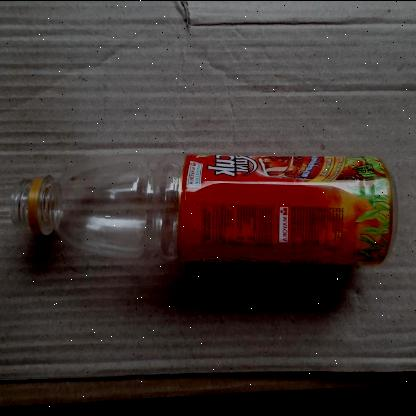Plastic Bottle: (10, 154, 396, 262)
